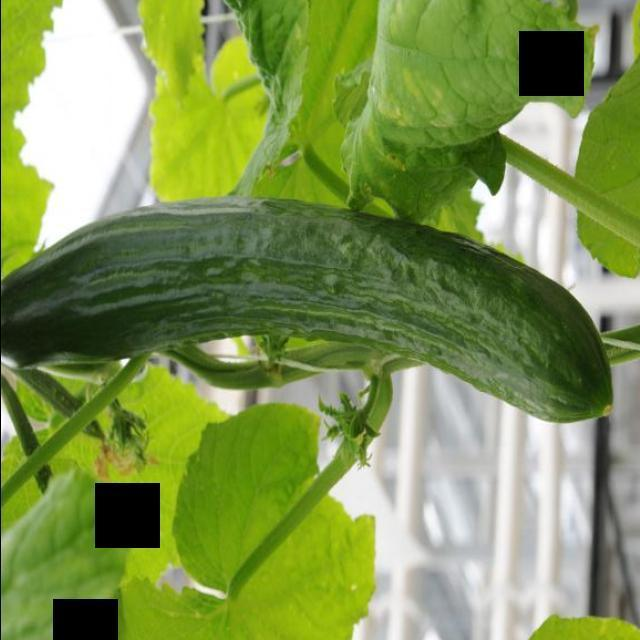cucumber: (1, 190, 616, 428)
